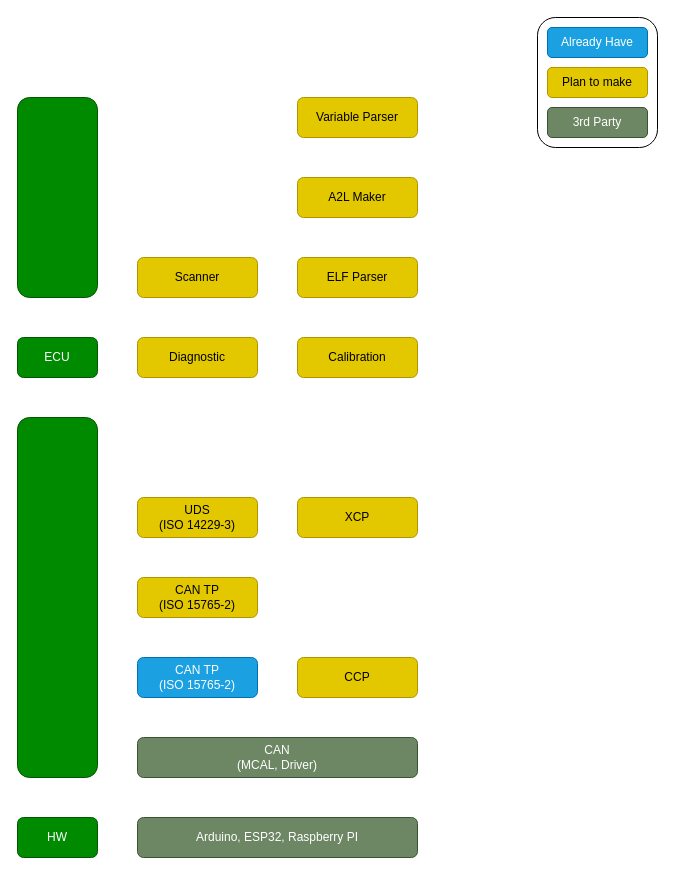
This 675x875 diagram has some shape labels left out. The shapes that lost their labels are listed below. From the top down, each one's box as (x1, y1, x2, y2) in pixels, then its label:
(16, 96, 98, 298): Validation / Verification
(16, 416, 98, 778): Platform
